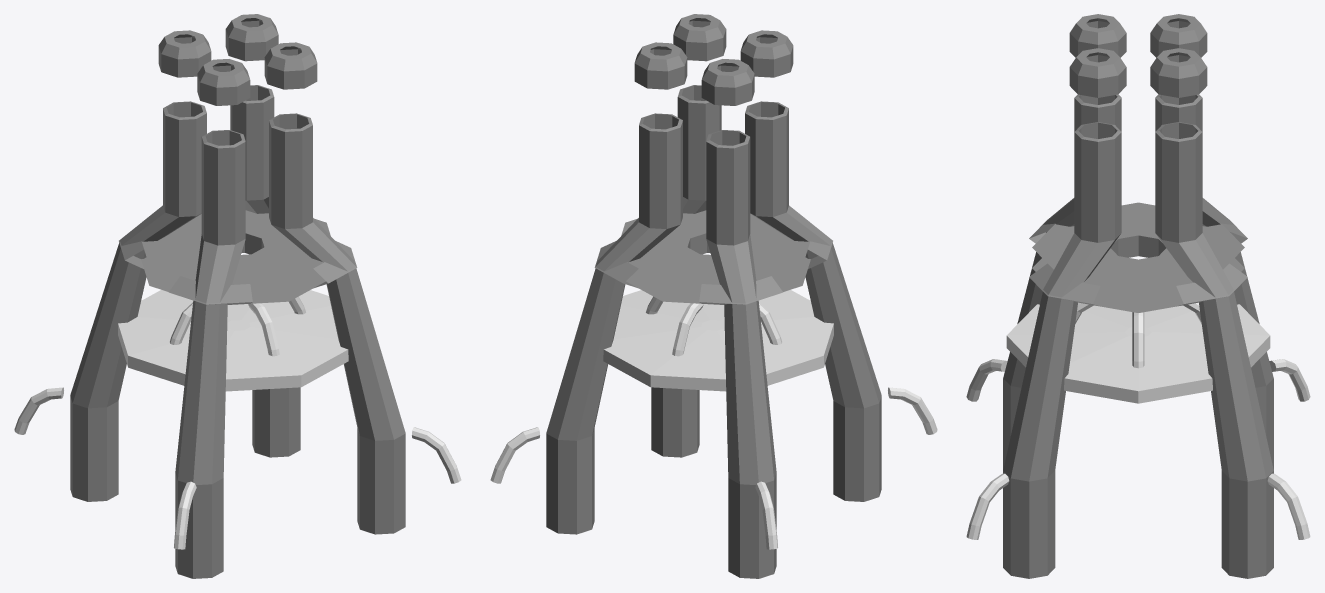
The model's file is Terraformer.fbx.
3 renders of one model, left to right at view 1: azimuth 30°, elevation 25°; view 2: azimuth 150°, elevation 25°; view 3: azimuth 270°, elevation 25°, orthographic. The views are drawn at different scales.
Visible parts, largest first — view 1: Terraformer, Water; view 2: Terraformer, Water; view 3: Terraformer, Water.
Part boxes in pixels (x1,y1,x2,y2): Terraformer: [70, 14, 405, 578]; Water: [14, 290, 461, 549]; Terraformer: [546, 14, 881, 578]; Water: [490, 290, 937, 549]; Terraformer: [1003, 14, 1273, 578]; Water: [966, 302, 1310, 539].
Size of the model in its own units: 188 by 290 by 188.
